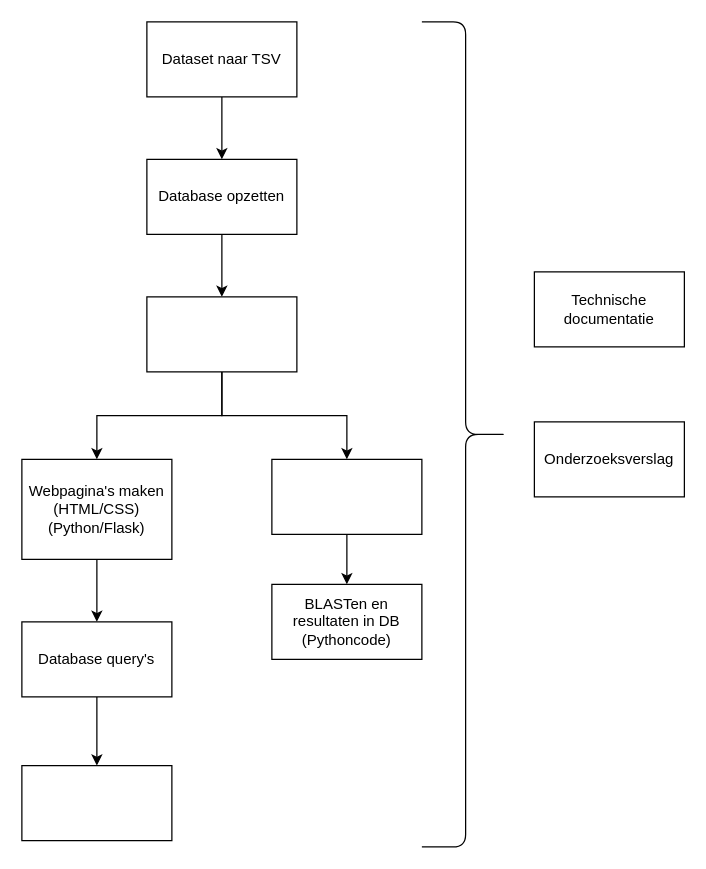
Image size: 706x869. Some labels were removed from this diagram. Here are the shapes that lost their labels. From the top down, the centre of each, then its label:
At (221,334): "Webapp opzetten".
At (346,496): "Verbinden met DB (Pythoncode)".
At (96,802): "Testen".
